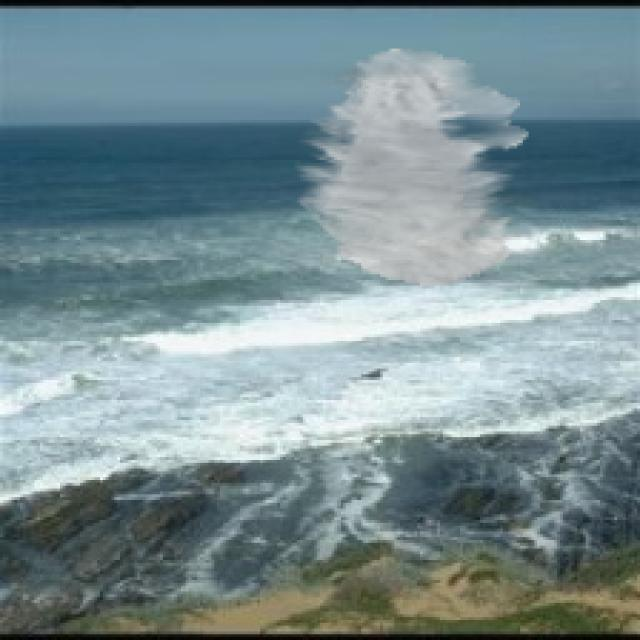smoke: (294, 48, 529, 286)
